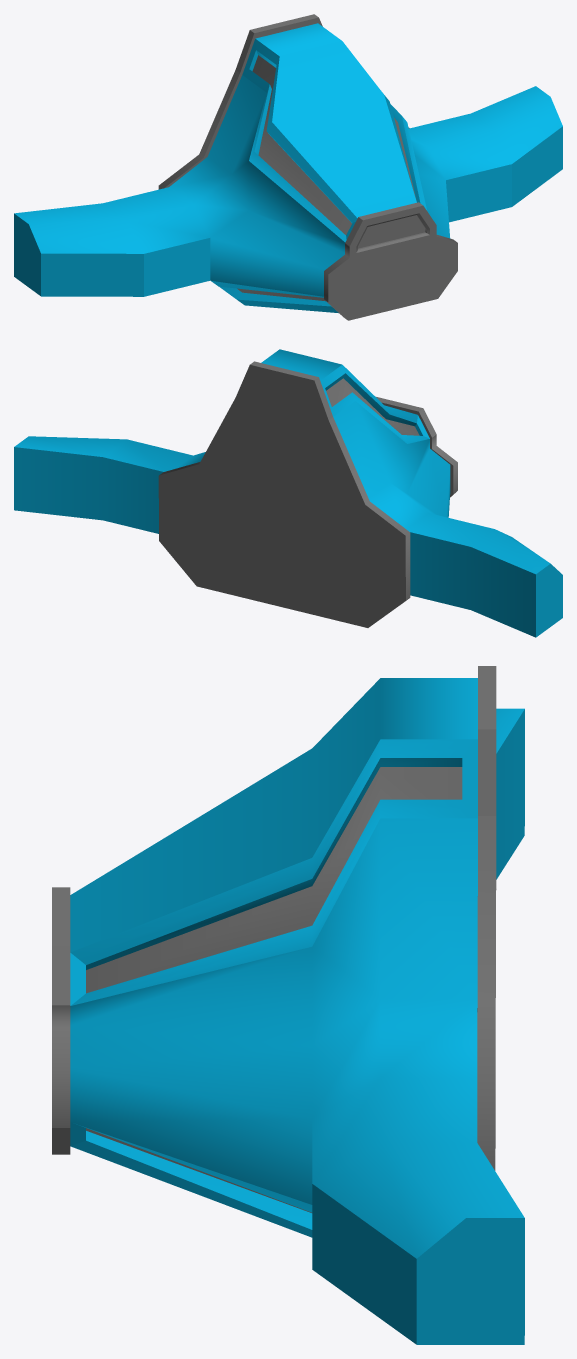
The model's file is _1Ship_PIece14.fbx.
3 views of the same model, one above another, from view 1: azimuth 30°, elevation 25°; view 2: azimuth 150°, elevation 25°; view 3: azimuth 270°, elevation 25° (orthographic). The views are drawn at different scales.
Visible parts, largest first — view 1: Ship_PIece14; view 2: Ship_PIece14; view 3: Ship_PIece14.
Part boxes in pixels (<box>): Ship_PIece14: <box>14,14,562,320</box>; Ship_PIece14: <box>14,349,562,637</box>; Ship_PIece14: <box>52,666,524,1344</box>.
Bounding box in the file's own units: 412 × 177 × 162.
